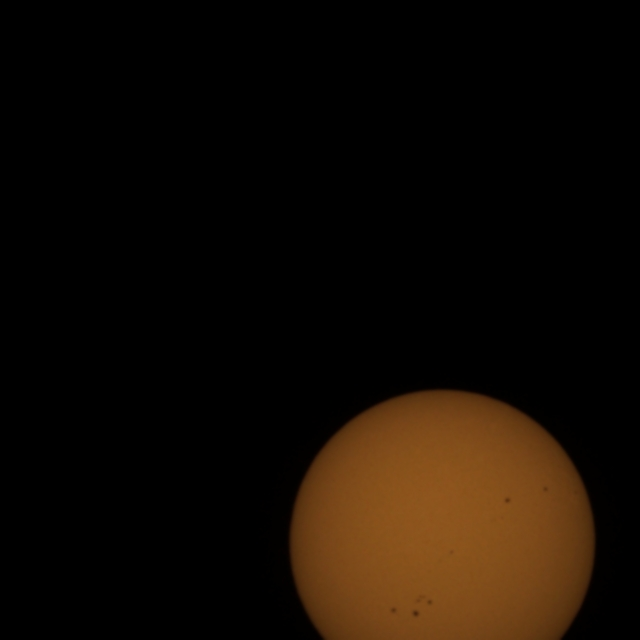sunspot: (410, 595, 433, 618), (411, 607, 422, 619), (389, 606, 399, 615), (541, 485, 550, 494), (503, 496, 512, 505), (426, 598, 434, 607), (448, 549, 455, 556)
